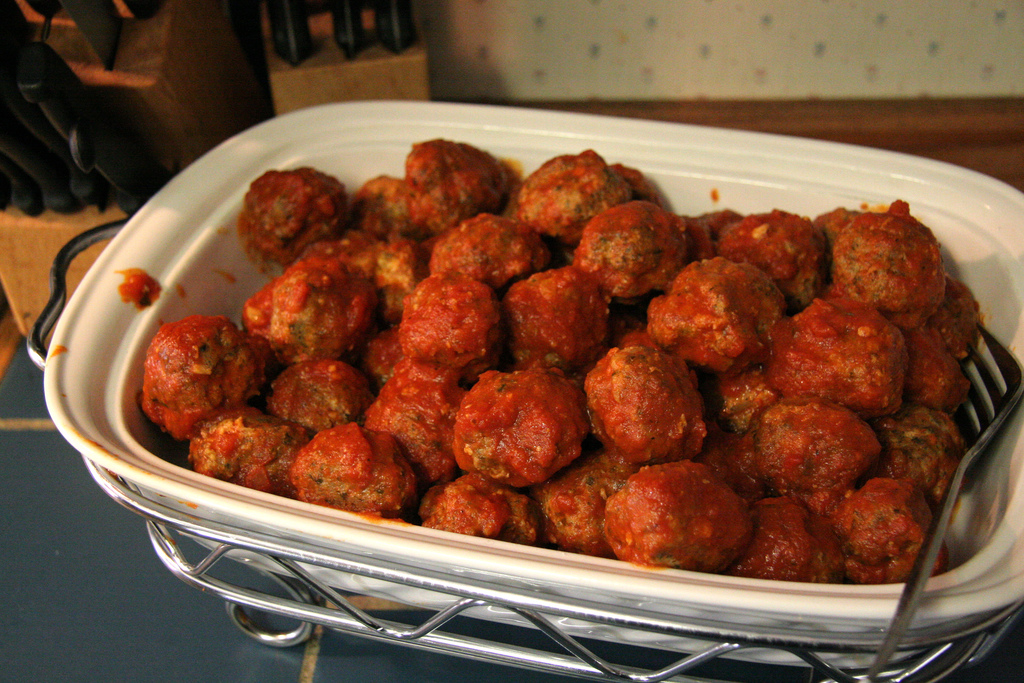meatballs: (283, 166, 870, 515)
